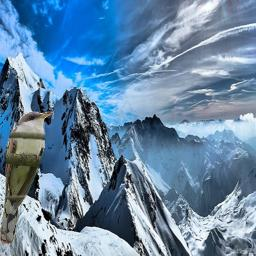Cuckoo: (0, 111, 54, 245)
